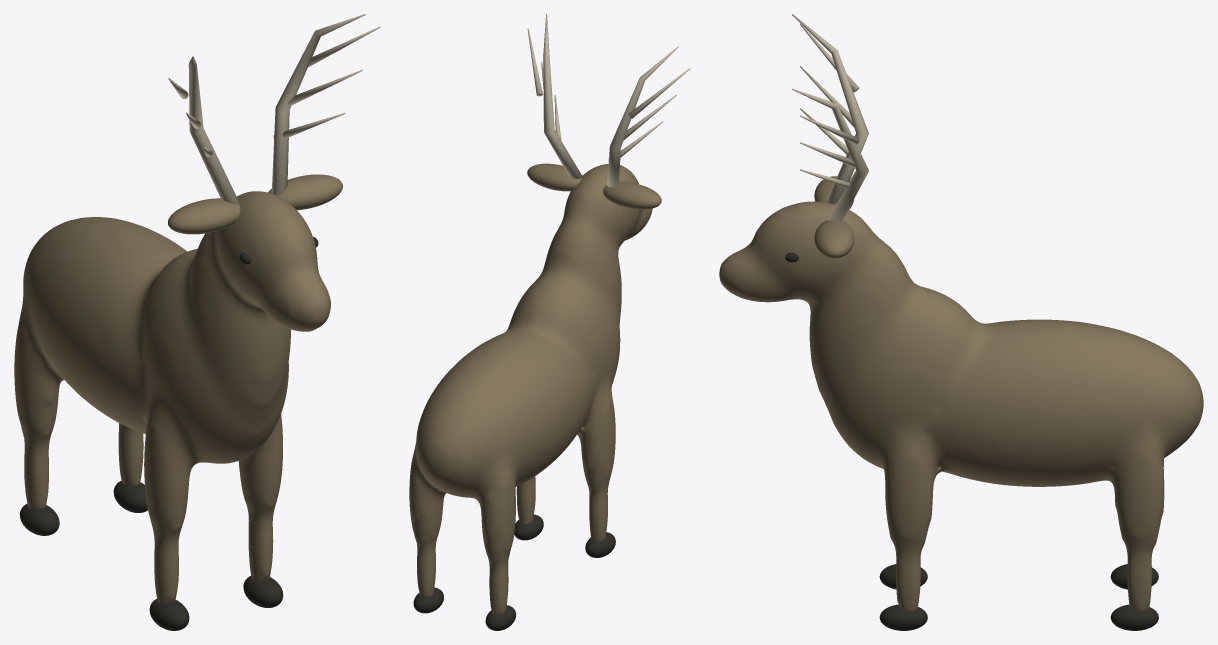
Rendered from reindeer.glb.
3 renders of one model, left to right at view 1: azimuth 30°, elevation 25°; view 2: azimuth 150°, elevation 25°; view 3: azimuth 270°, elevation 25°, orthographic. The views are drawn at different scales.
Parts seen in each view (by area): view 1: Unified reindeer, Antler.001, Ear, Antler, Ear.001, Hoof, Hoof.002, Hoof.001, Hoof.003; view 2: Unified reindeer, Antler.001, Antler, Ear, Ear.001, Hoof.003, Hoof, Hoof.001, Hoof.002; view 3: Unified reindeer, Antler, Antler.001, Ear.001, Hoof.002, Hoof.003.
Boxes of the visible parts, left/top/right/bottom form: Unified reindeer: left=14, top=191, right=330, bottom=603; Antler.001: left=271, top=14, right=365, bottom=195; Ear: left=168, top=198, right=240, bottom=234; Antler: left=188, top=56, right=240, bottom=205; Ear.001: left=268, top=174, right=342, bottom=210; Hoof: left=149, top=599, right=189, bottom=630; Hoof.002: left=243, top=576, right=283, bottom=607; Hoof.001: left=19, top=503, right=59, bottom=535; Hoof.003: left=113, top=480, right=147, bottom=512; Unified reindeer: left=409, top=164, right=652, bottom=614; Antler.001: left=543, top=14, right=582, bottom=178; Antler: left=607, top=46, right=678, bottom=187; Ear: left=603, top=182, right=661, bottom=209; Ear.001: left=527, top=163, right=582, bottom=191; Hoof.003: left=413, top=587, right=443, bottom=613; Hoof: left=585, top=532, right=615, bottom=557; Hoof.001: left=485, top=605, right=516, bottom=630; Hoof.002: left=514, top=514, right=543, bottom=540; Unified reindeer: left=719, top=201, right=1203, bottom=610; Antler: left=792, top=14, right=868, bottom=203; Antler.001: left=792, top=88, right=868, bottom=221; Ear.001: left=814, top=220, right=854, bottom=258; Hoof.002: left=879, top=604, right=927, bottom=630; Hoof.003: left=1110, top=604, right=1158, bottom=630.
Bounding box in the file's own units: 1.09 × 3.06 × 2.41.
